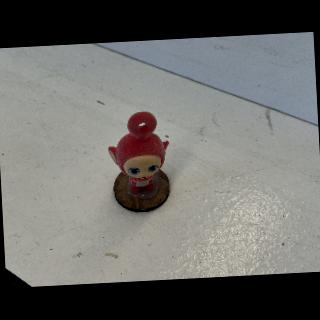teletubby: (108, 111, 169, 194)
